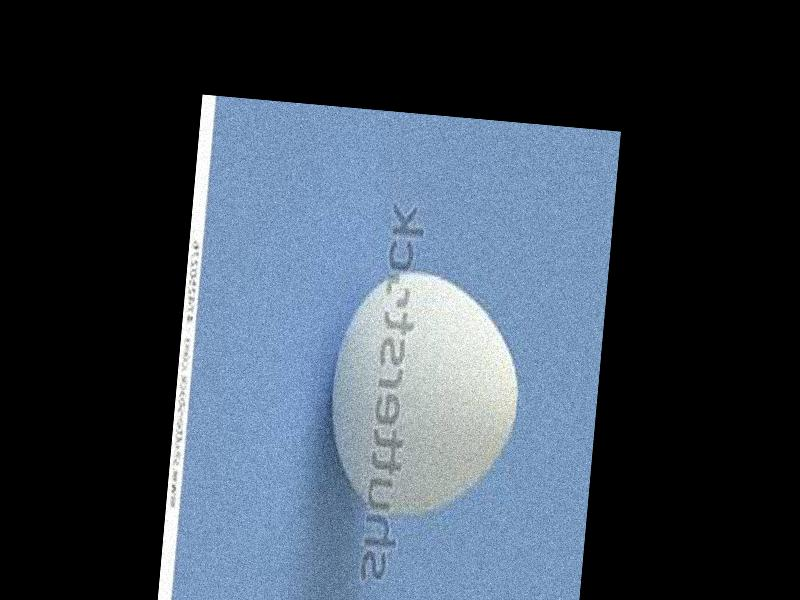Eggs: (320, 264, 527, 525)
